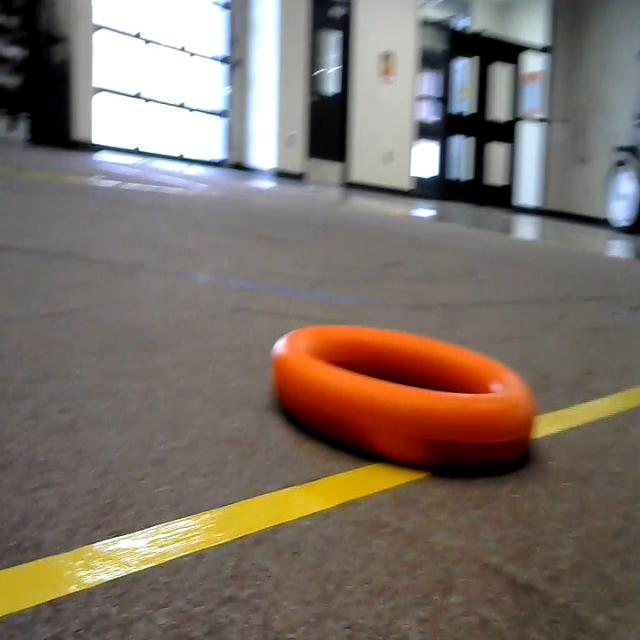note: (266, 290, 539, 493)
